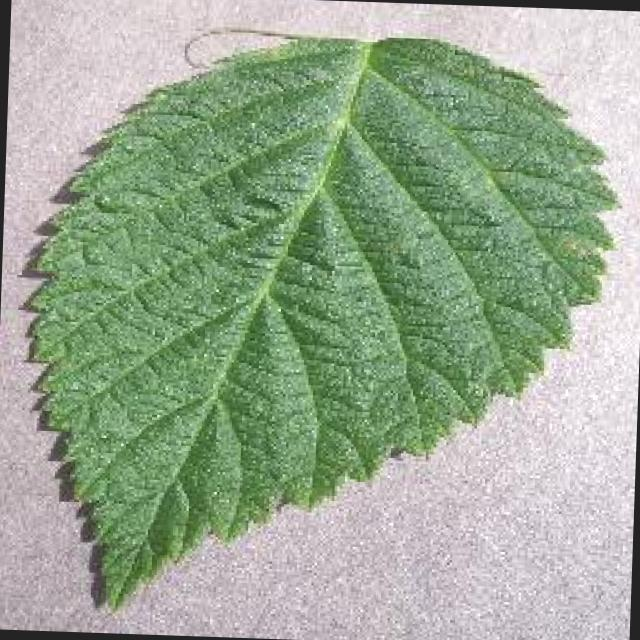healthy: (36, 41, 614, 605)
